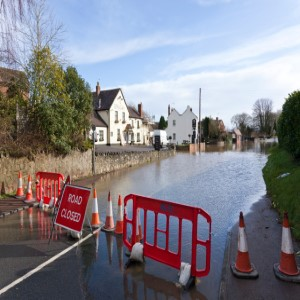traffic cone: (273, 210, 300, 284), (230, 211, 258, 279), (101, 191, 117, 233), (111, 195, 126, 235), (89, 187, 103, 227), (12, 171, 27, 199), (23, 174, 36, 201)
